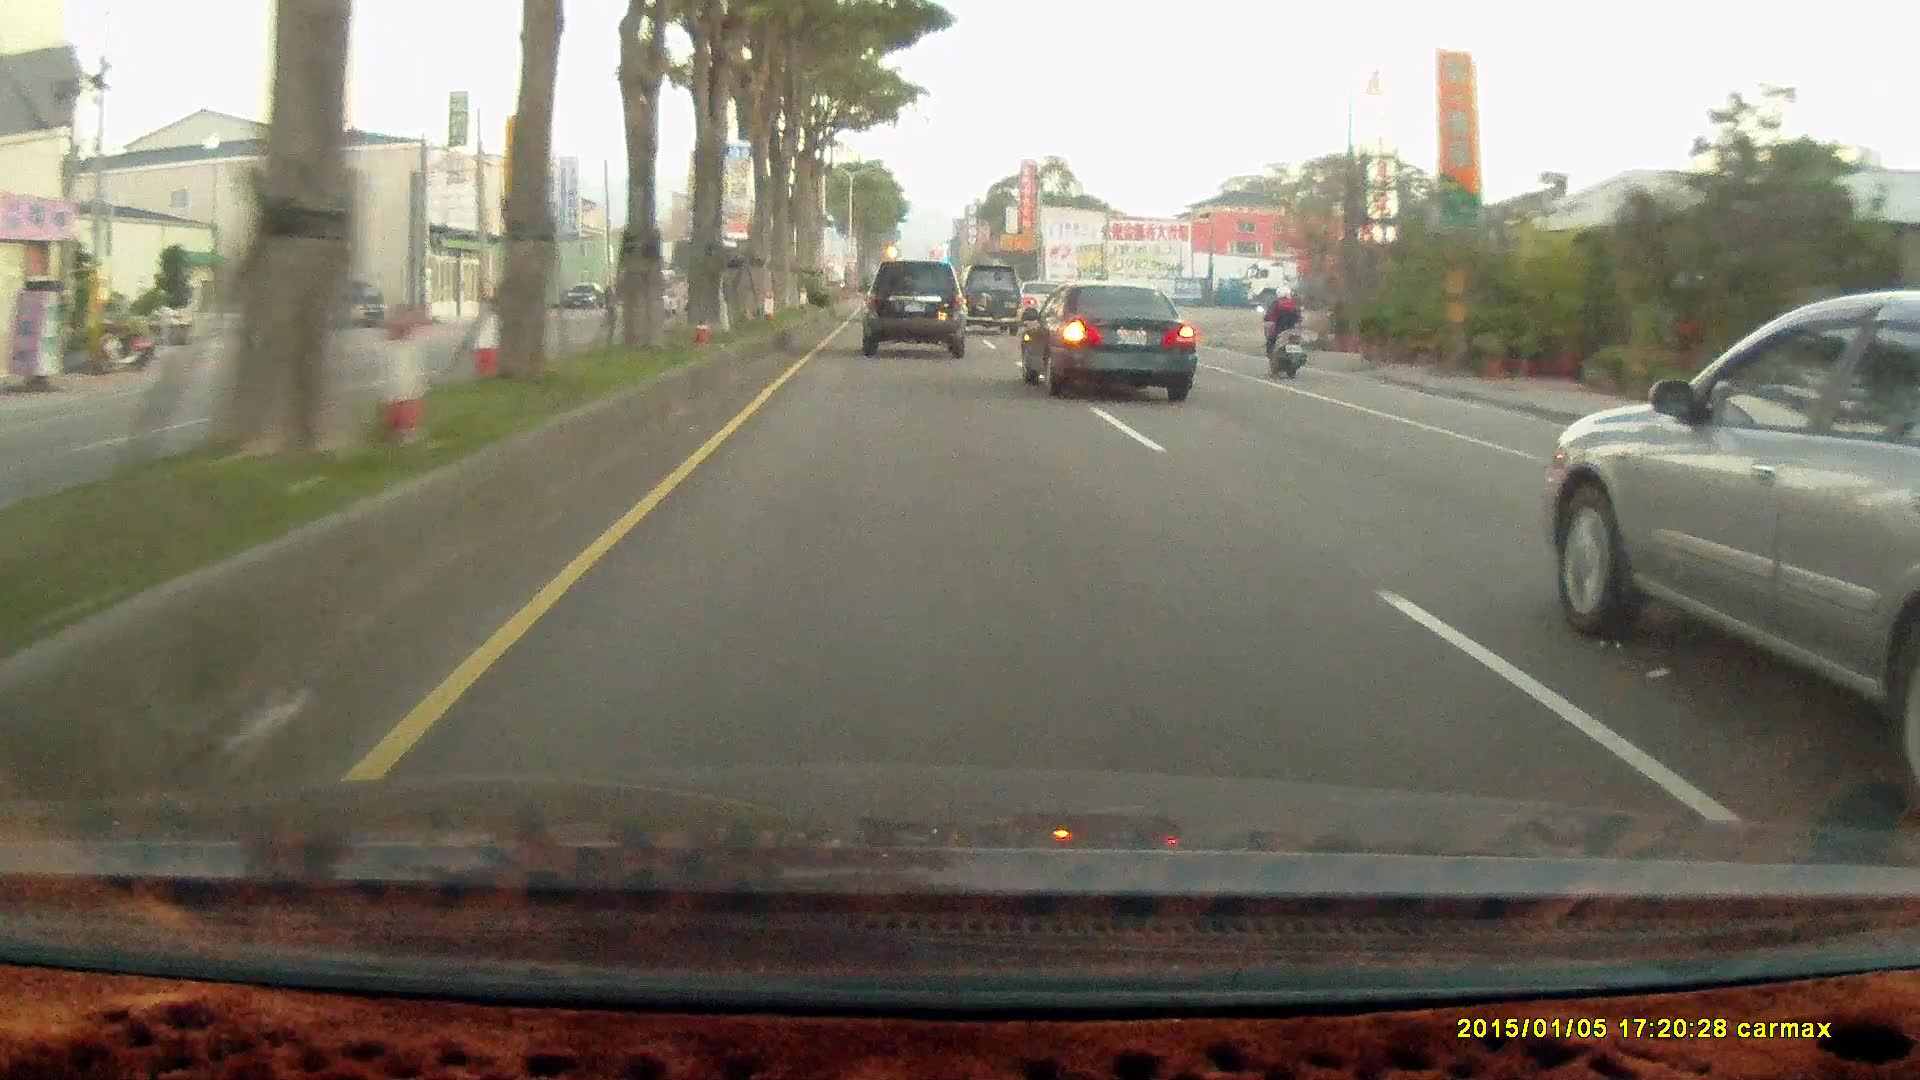rider: (1252, 277, 1318, 389), (1256, 285, 1307, 382)
vehicle: (1538, 296, 1918, 815), (1018, 282, 1199, 403), (1019, 279, 1196, 403), (1250, 257, 1474, 312), (859, 261, 969, 362), (861, 258, 965, 356), (950, 264, 1025, 339), (950, 263, 1025, 336), (289, 281, 386, 337), (288, 280, 380, 333), (562, 282, 601, 306)
